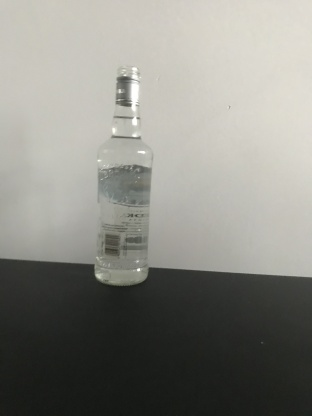nakretka: (113, 63, 142, 107)
